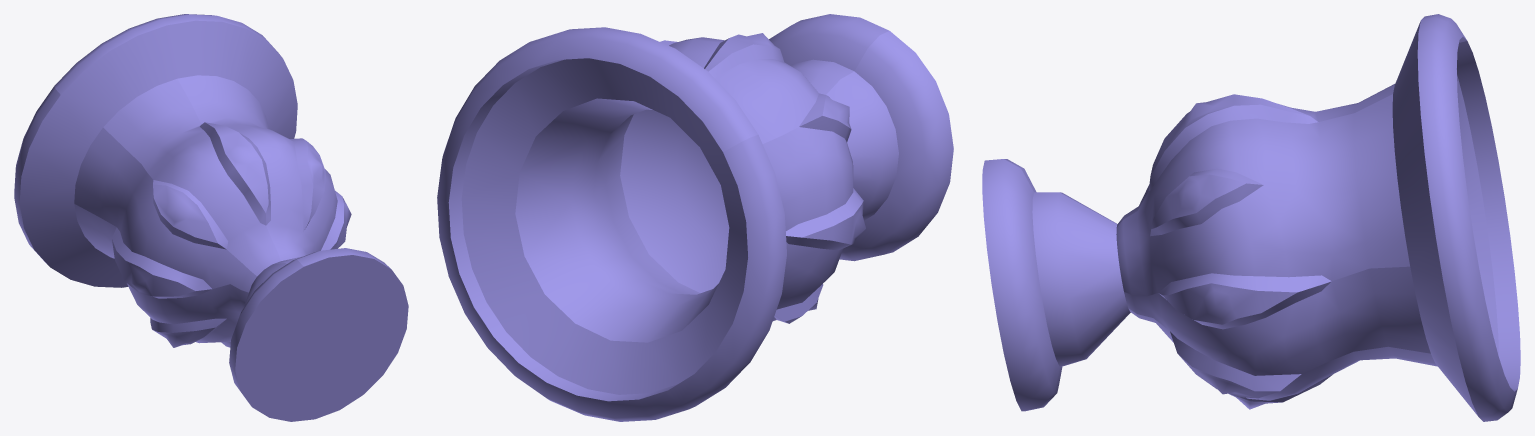
File: SM_Planter_Urn_2.fbx
3 renders of one model, left to right at view 1: azimuth 30°, elevation 25°; view 2: azimuth 150°, elevation 25°; view 3: azimuth 270°, elevation 25°, orthographic. The views are drawn at different scales.
Parts seen in each view (by area): view 1: SM_Planter_Urn_2; view 2: SM_Planter_Urn_2; view 3: SM_Planter_Urn_2.
Boxes of the visible parts, x1,y1,x2,y2 form: SM_Planter_Urn_2: (14,14,408,421); SM_Planter_Urn_2: (437,14,953,421); SM_Planter_Urn_2: (982,14,1520,421).
Bounding box in the file's own units: 0.4415 × 0.4423 × 0.5801.
